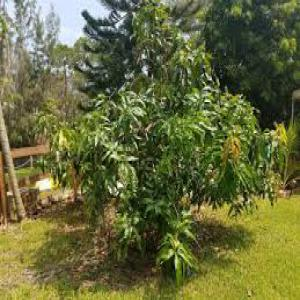Tree: (51, 21, 281, 282)
